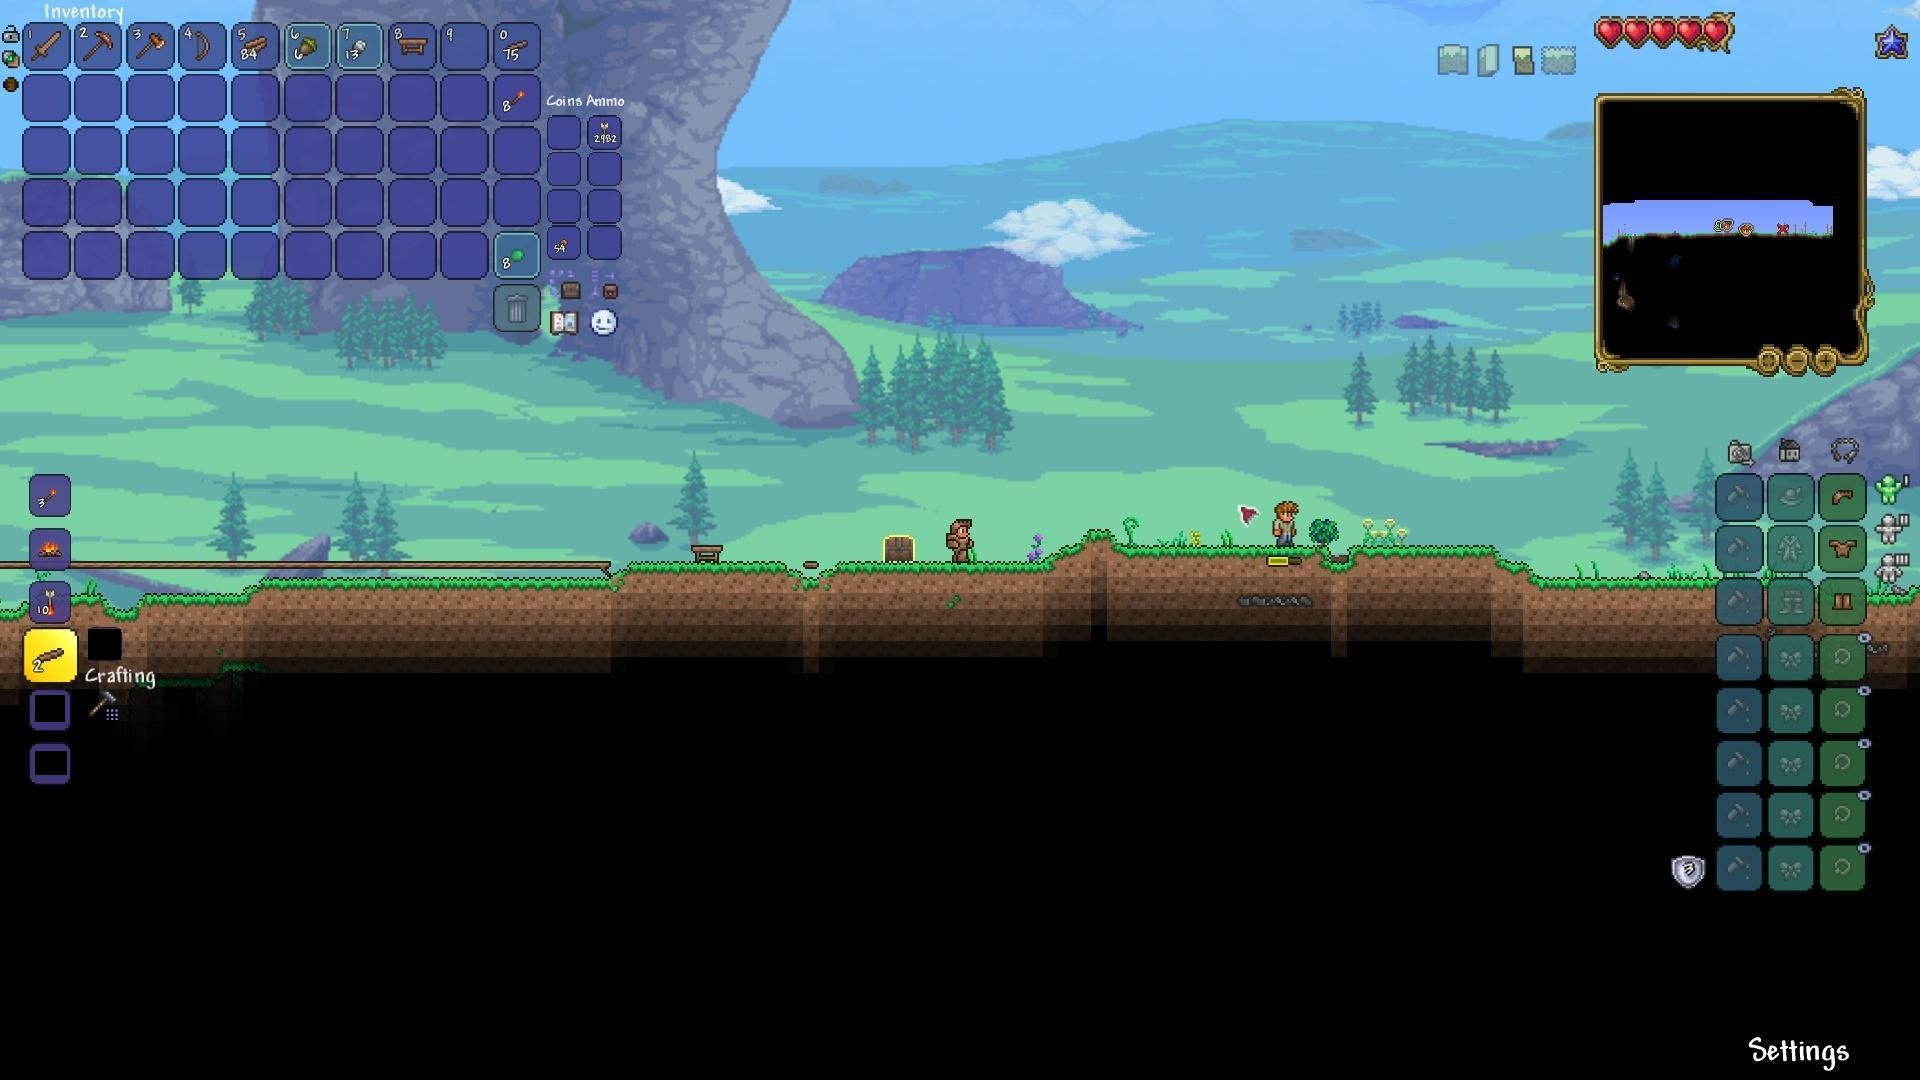breastplate: (1829, 537, 1859, 558)
helmet: (1826, 483, 1858, 512)
legs: (1832, 587, 1855, 616)
wood: (243, 33, 270, 61)
workbench: (393, 33, 430, 58), (690, 541, 727, 560)
